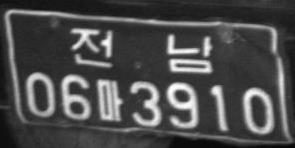0: (241, 86, 276, 135), (24, 70, 57, 118)
1: (205, 83, 235, 132)
3: (129, 79, 163, 129)
6: (60, 73, 93, 120)
9: (164, 81, 201, 129)
마: (96, 77, 123, 122)
전남_D: (70, 26, 214, 73)
